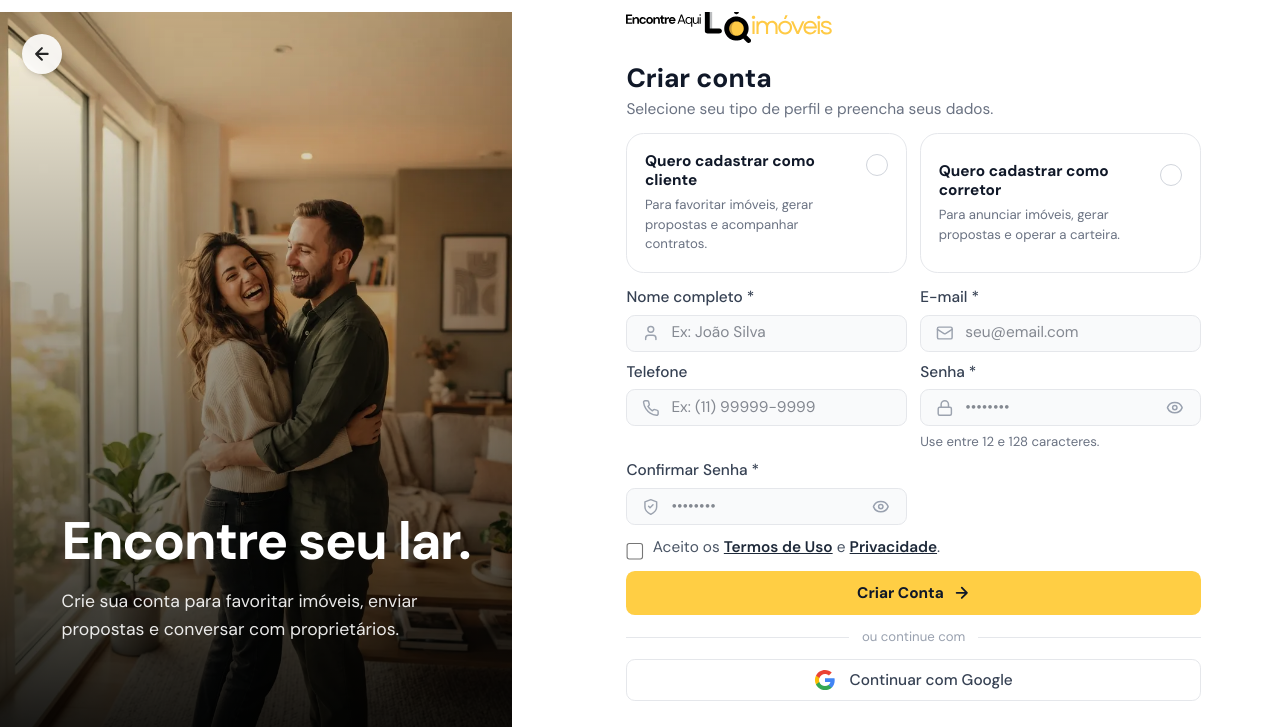
signup flow › fluxo sem Google não envia endereço no POST inicial e não mostra erro de endereço inválido
The width and height of the screenshot is (1280, 727).
Click the button "Quero cadastrar como cliente": (767, 203) left=626, top=133, right=907, bottom=273
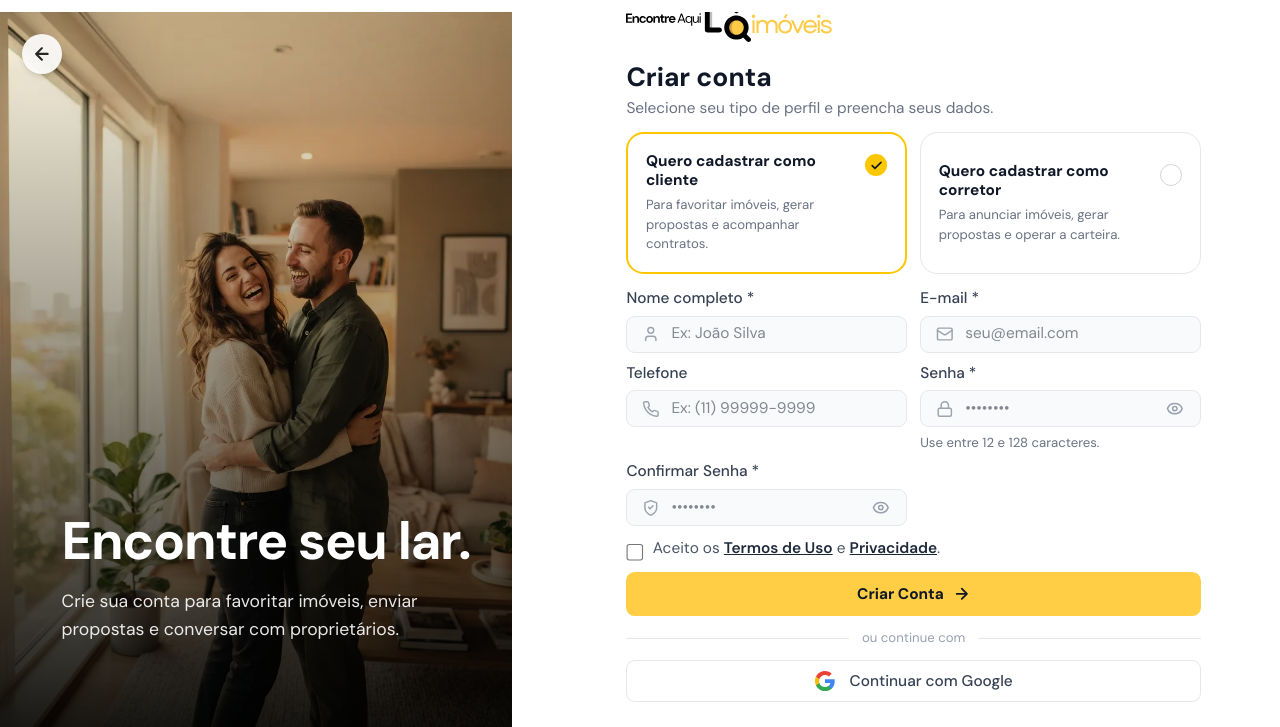
In the field labelled "Nome completo *": (767, 334) left=626, top=316, right=907, bottom=353, type "Cliente Sem Endereço"
In the field labelled "E-mail *": (1060, 334) left=920, top=316, right=1201, bottom=353, type "cliente-sem-endereco@example.com"
In the password field labelled "Senha *": (1060, 409) left=920, top=390, right=1201, bottom=427, type "SenhaMuitoSegura123"
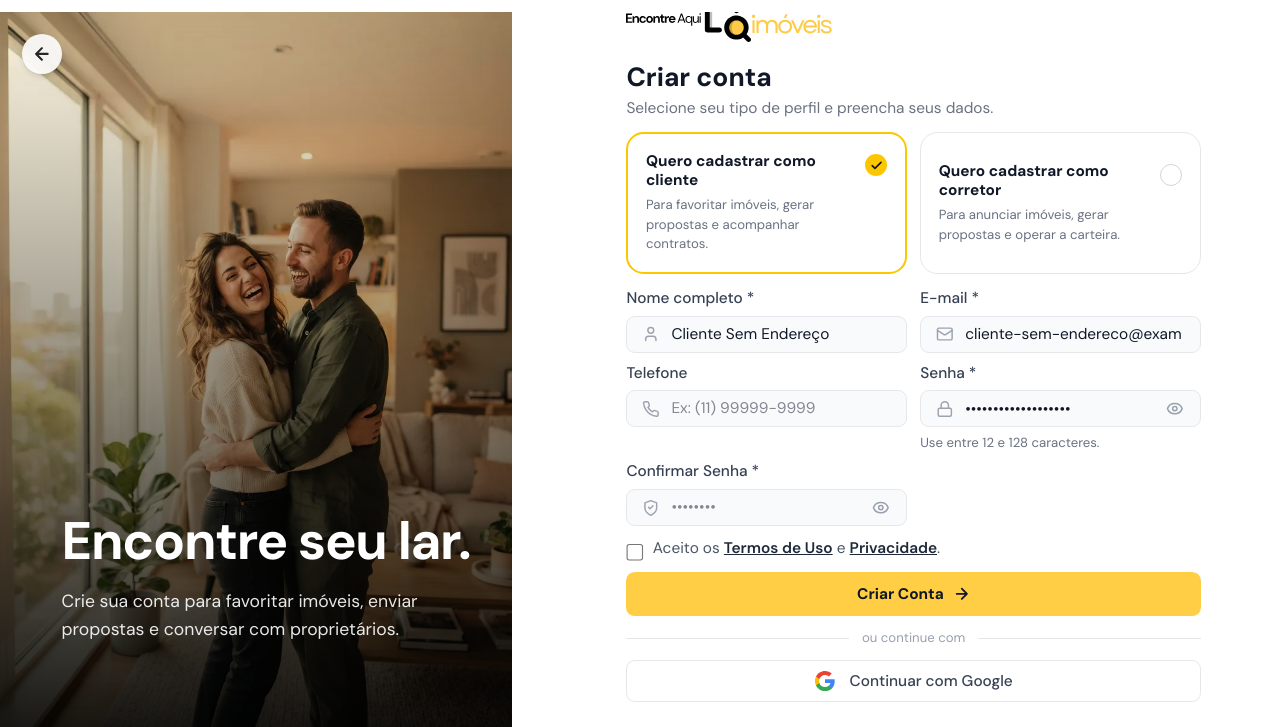
In the password field labelled "Confirmar Senha *": (767, 508) left=626, top=489, right=907, bottom=526, type "SenhaMuitoSegura123"
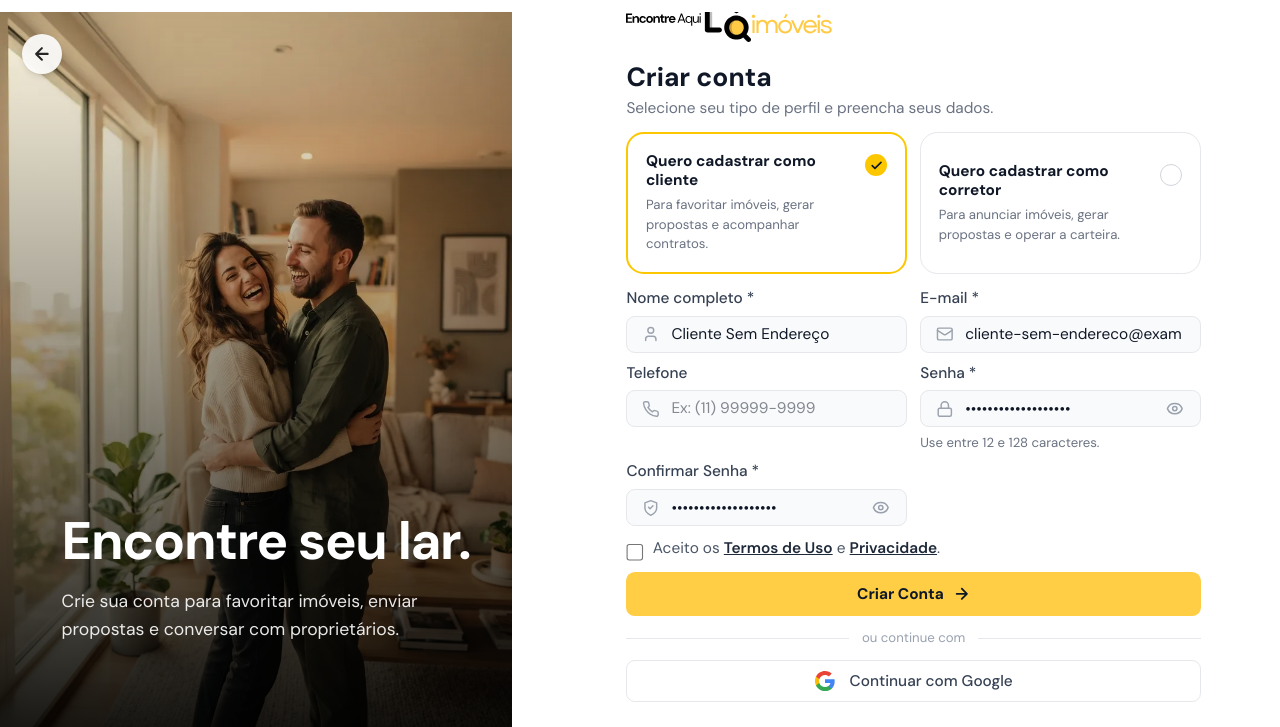
In the field labelled "Telefone": (767, 409) left=626, top=390, right=907, bottom=427, type "(62) 98888-8888"
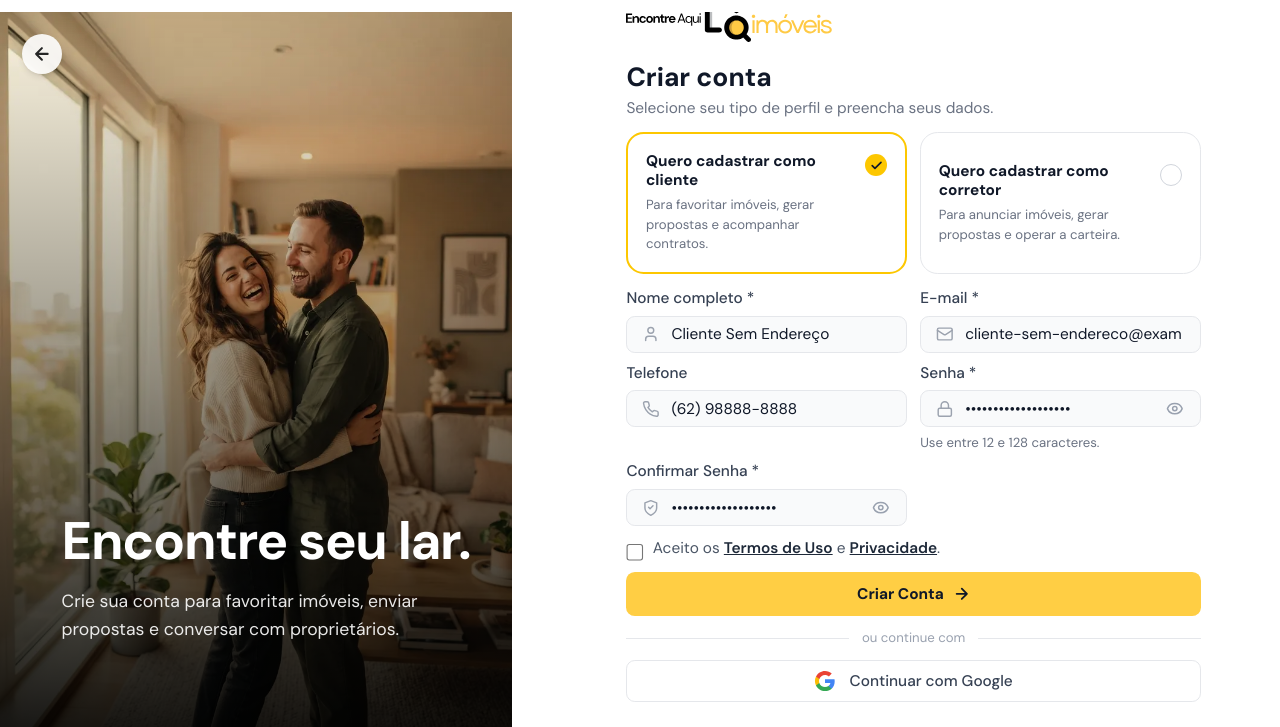
Click the checkbox: (635, 552) left=626, top=544, right=644, bottom=561
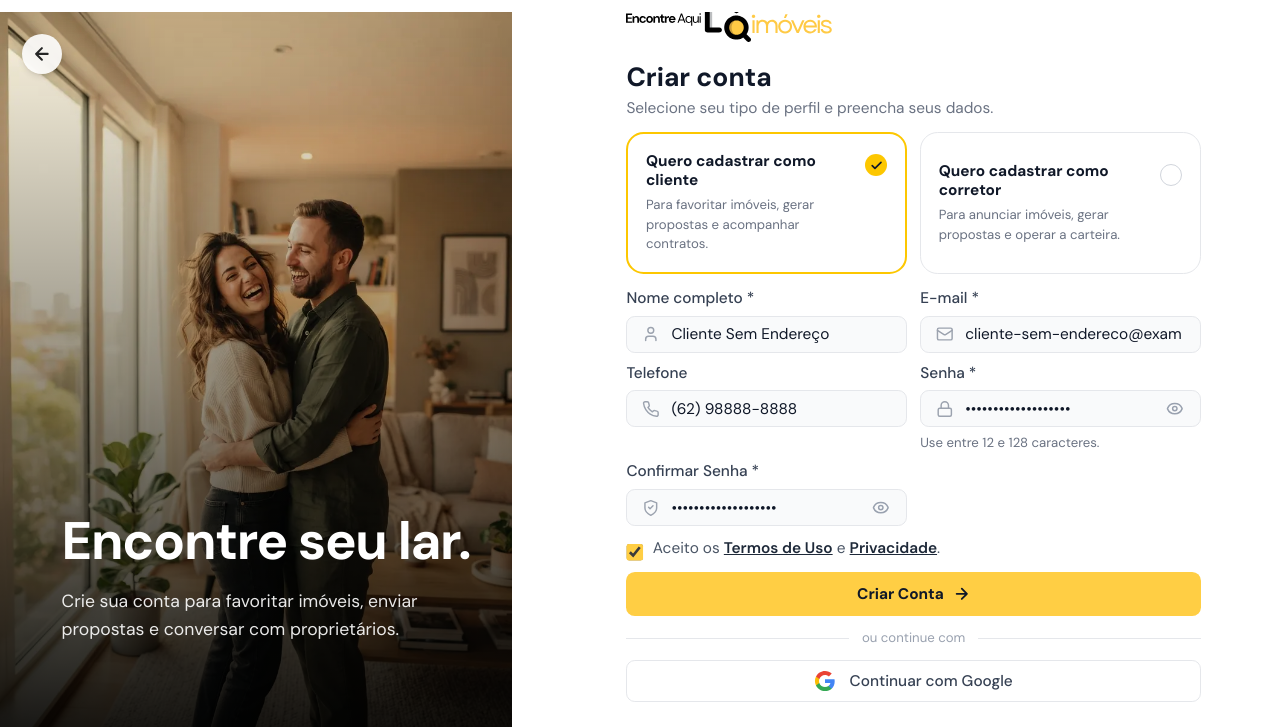
Click the button "Criar Conta": (914, 594) left=626, top=572, right=1201, bottom=616
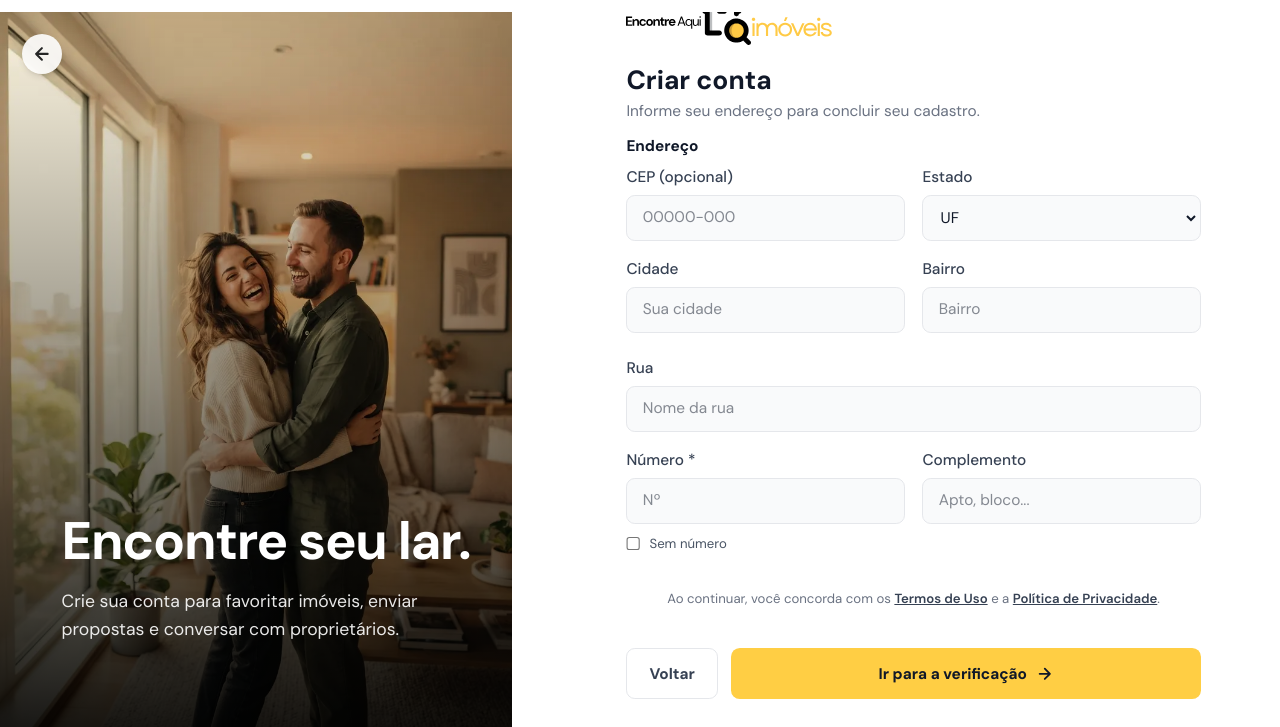
Result: the field labelled "CEP (opcional)" is shown at left=626, top=195, right=905, bottom=241
